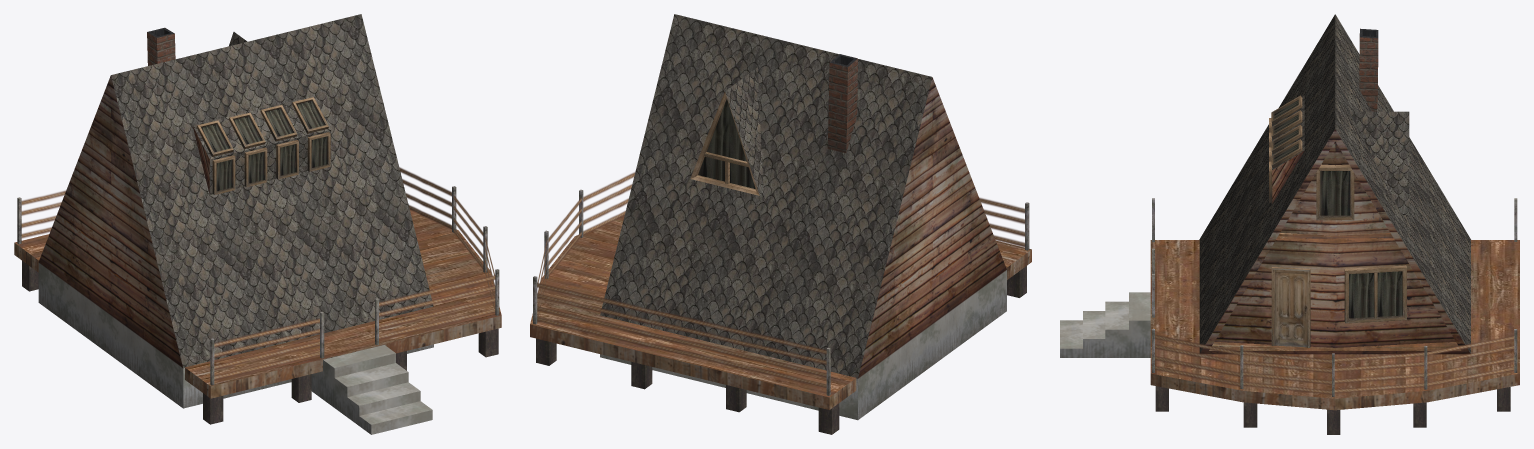
File: kuca_brvnara.glb
3 renders of one model, left to right at view 1: azimuth 30°, elevation 25°; view 2: azimuth 150°, elevation 25°; view 3: azimuth 270°, elevation 25°, orthographic. The views are drawn at different scales.
Parts seen in each view (by area): view 1: _House_House:aiStandardSurface7_0, _House_House:aiStandardSurface6_0, _House_House:aiStandardSurface8_0, _House_House:aiStandardSurface5_0; view 2: _House_House:aiStandardSurface7_0, _House_House:aiStandardSurface6_0, _House_House:aiStandardSurface8_0, _House_House:aiStandardSurface5_0; view 3: _House_House:aiStandardSurface6_0, _House_House:aiStandardSurface7_0, _House_House:aiStandardSurface8_0, _House_House:aiStandardSurface5_0.
Boxes of the visible parts, left/top/right/bottom form: _House_House:aiStandardSurface7_0: left=111, top=14, right=433, bottom=368; _House_House:aiStandardSurface6_0: left=14, top=27, right=501, bottom=434; _House_House:aiStandardSurface8_0: left=14, top=209, right=501, bottom=386; _House_House:aiStandardSurface5_0: left=197, top=97, right=330, bottom=194; _House_House:aiStandardSurface7_0: left=600, top=14, right=932, bottom=378; _House_House:aiStandardSurface6_0: left=530, top=54, right=1031, bottom=434; _House_House:aiStandardSurface8_0: left=530, top=215, right=1031, bottom=397; _House_House:aiStandardSurface5_0: left=690, top=92, right=759, bottom=195; _House_House:aiStandardSurface6_0: left=1060, top=28, right=1519, bottom=434; _House_House:aiStandardSurface7_0: left=1199, top=14, right=1470, bottom=353; _House_House:aiStandardSurface8_0: left=1150, top=240, right=1519, bottom=398; _House_House:aiStandardSurface5_0: left=1269, top=95, right=1406, bottom=347.
Size of the model in its own units: 519 by 419 by 633.
4 materials, 4 textured.
